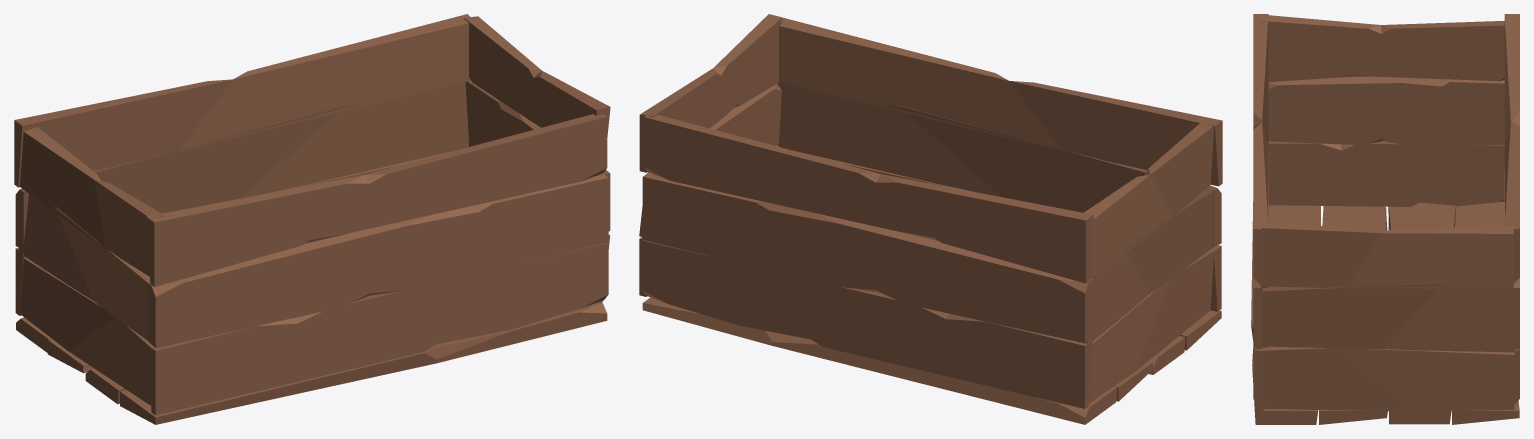
File: box buka.fbx
3 views of the same model, side by side, from view 1: azimuth 30°, elevation 25°; view 2: azimuth 150°, elevation 25°; view 3: azimuth 270°, elevation 25° (orthographic). The views are drawn at different scales.
Visible parts, largest first — view 1: box buka; view 2: box buka; view 3: box buka.
Part boxes in pixels (box(x1,y1,x2,y2)): box buka: box(14, 14, 610, 424); box buka: box(639, 14, 1222, 424); box buka: box(1251, 14, 1519, 424).
Bounding box in the file's own units: 94 × 40.94 × 49.89.
